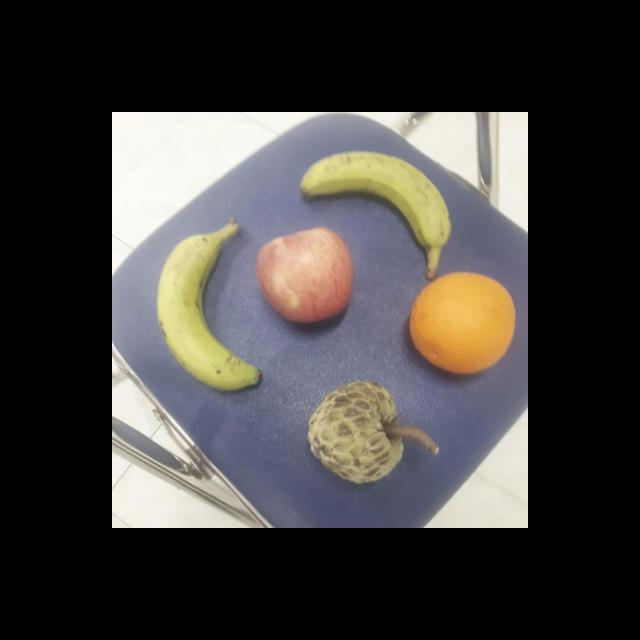Sakya fruit: (305, 381, 403, 487)
apple: (254, 224, 355, 326)
banana: (153, 216, 263, 392), (297, 148, 450, 254)
orange: (407, 269, 517, 376)
